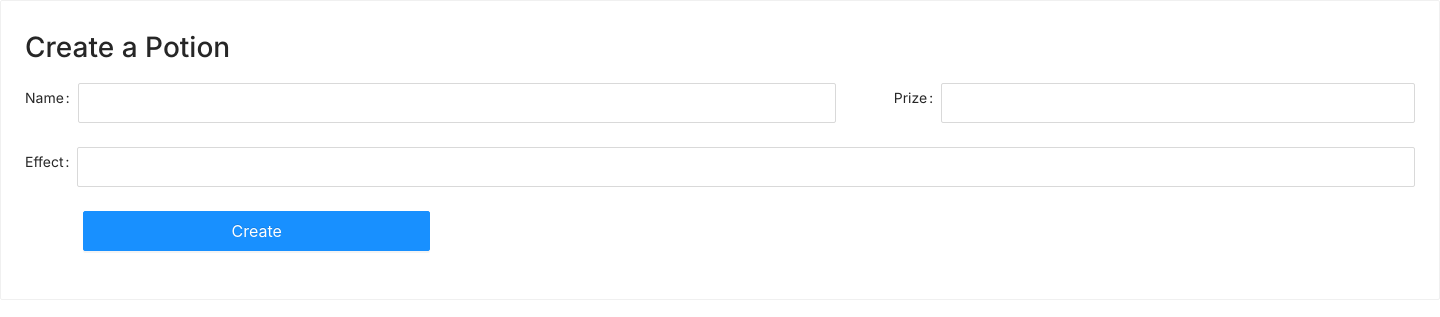
it: when user fill in all fields and click send › and there are no errors › should show a success message
The image size is (1440, 317).
Type "My awesome potion" into the field labelled "Name". click: (457, 103)
box: [78, 83, 836, 123]
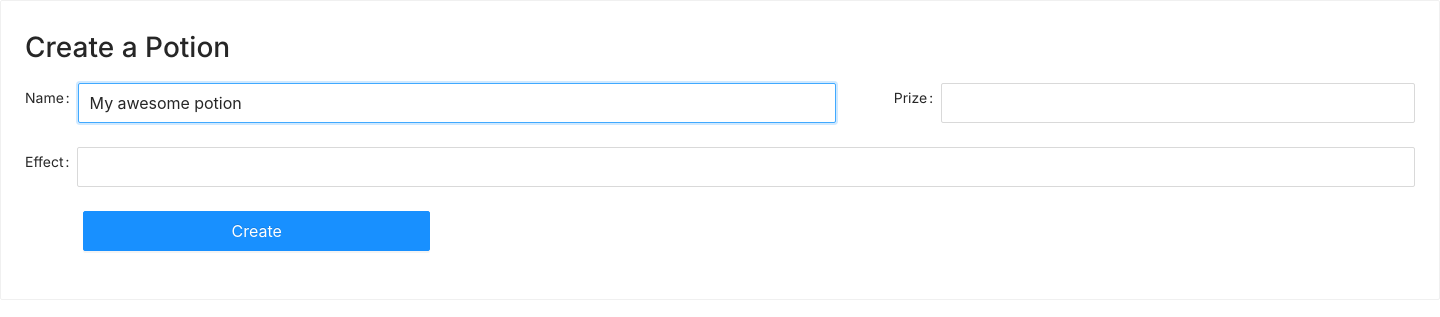
Type "1" into the number field labelled "Prize". click: (1178, 103)
box: [941, 83, 1415, 123]
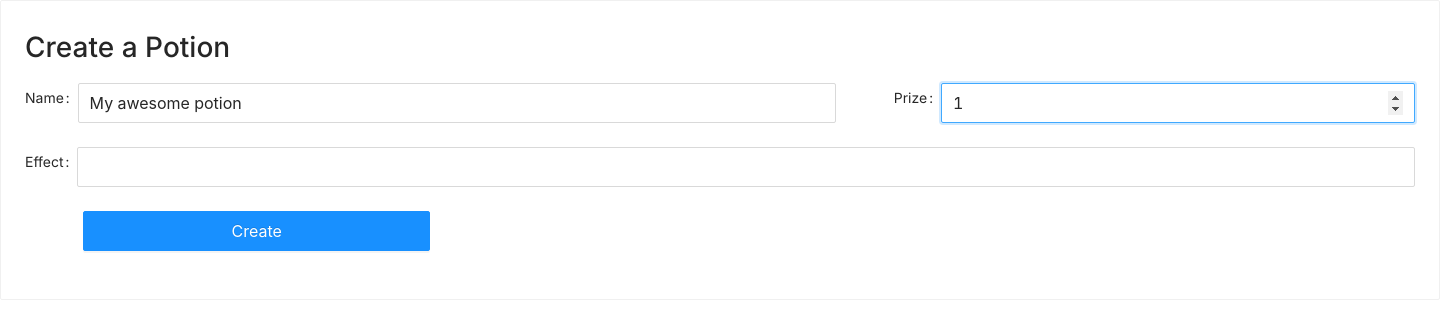
Type "Crazy effect" into the field labelled "Effect". click: (746, 167)
box: [77, 147, 1415, 187]
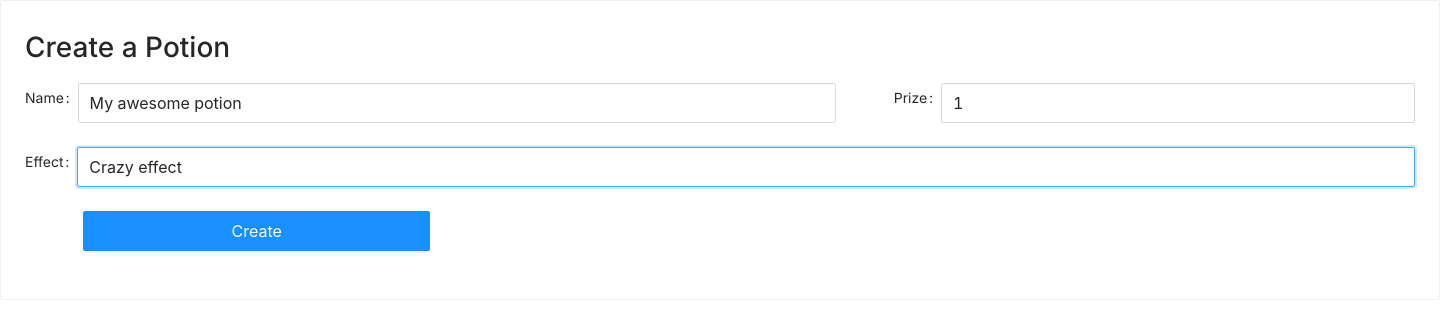
Click the button "Create". click: click(257, 231)
box: [83, 211, 430, 251]
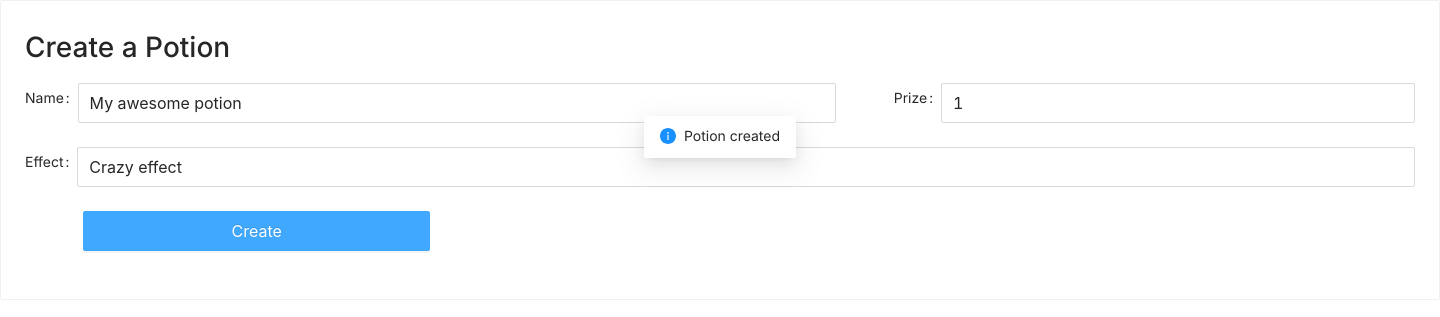
Now the text "Potion created" is shown, box [684, 128, 780, 145]
